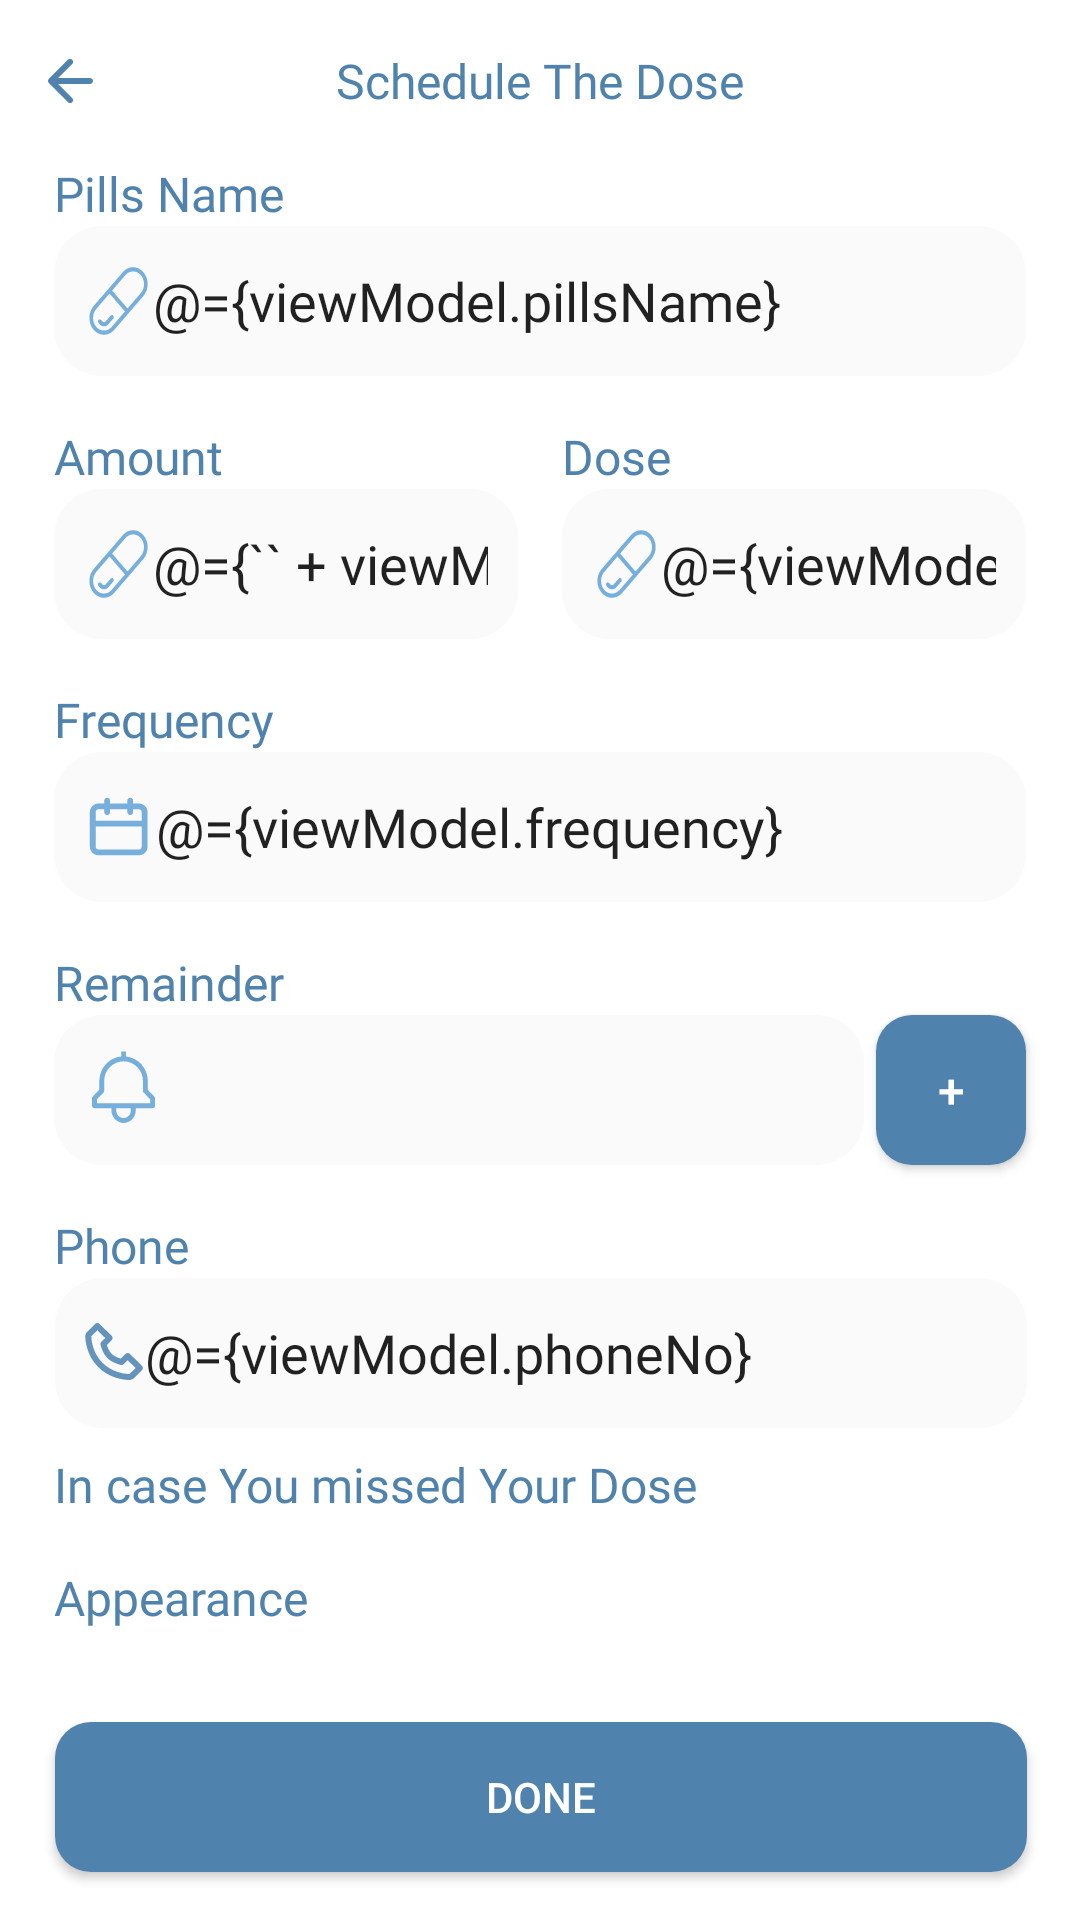

Named icons in this screenshot (1080 × 1920) and their bounding boxes, (x1, y1, x2, y2):
arrow: (48, 59, 93, 103)
